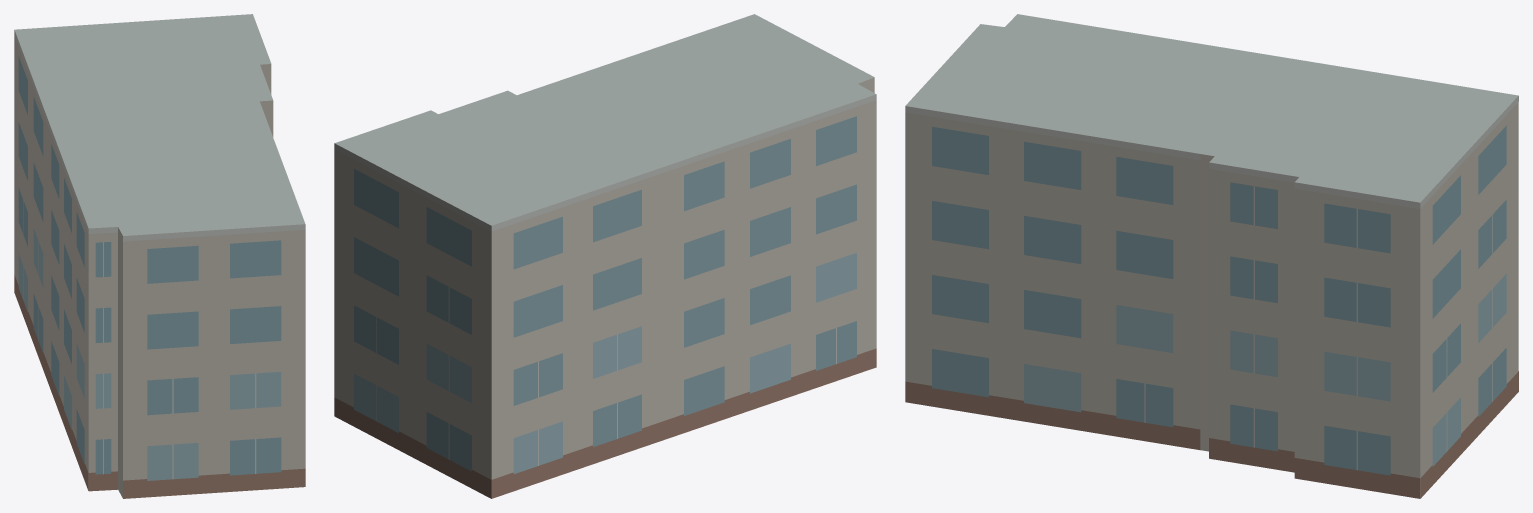
The model's file is survey-upis-32982670.glb.
The picture shows the model from 3 angles, left to right: view 1: azimuth 30°, elevation 25°; view 2: azimuth 150°, elevation 25°; view 3: azimuth 270°, elevation 25°; orthographic projection. The views are drawn at different scales.
Parts seen in each view (by area): view 1: survey-upis-32982670.tmp; view 2: survey-upis-32982670.tmp; view 3: survey-upis-32982670.tmp.
Boxes of the visible parts, bbox=[...] form: survey-upis-32982670.tmp: bbox=[14, 14, 305, 498]; survey-upis-32982670.tmp: bbox=[334, 14, 876, 498]; survey-upis-32982670.tmp: bbox=[905, 14, 1518, 498].
Bounding box in the file's own units: 15.85 × 11.6 × 21.78.
